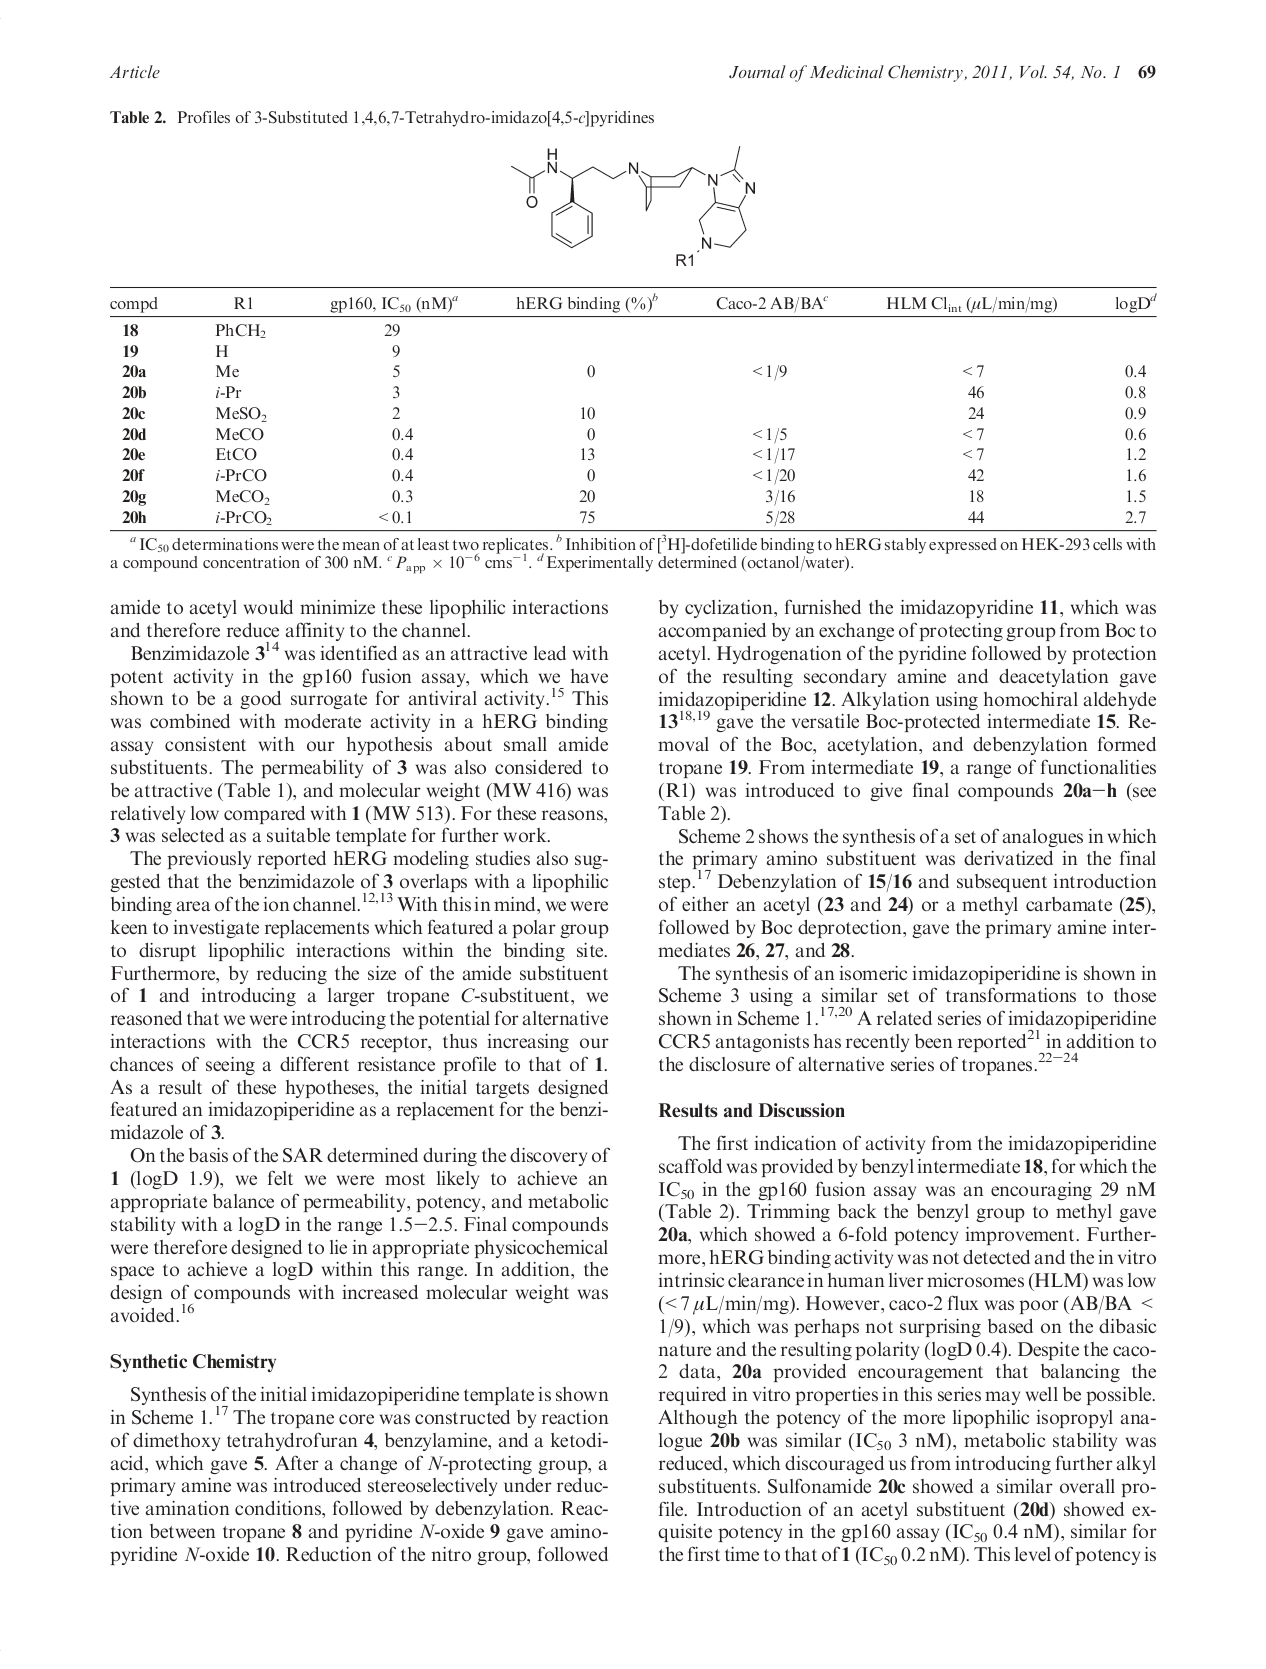exist_molecular: (508, 144, 759, 269)
